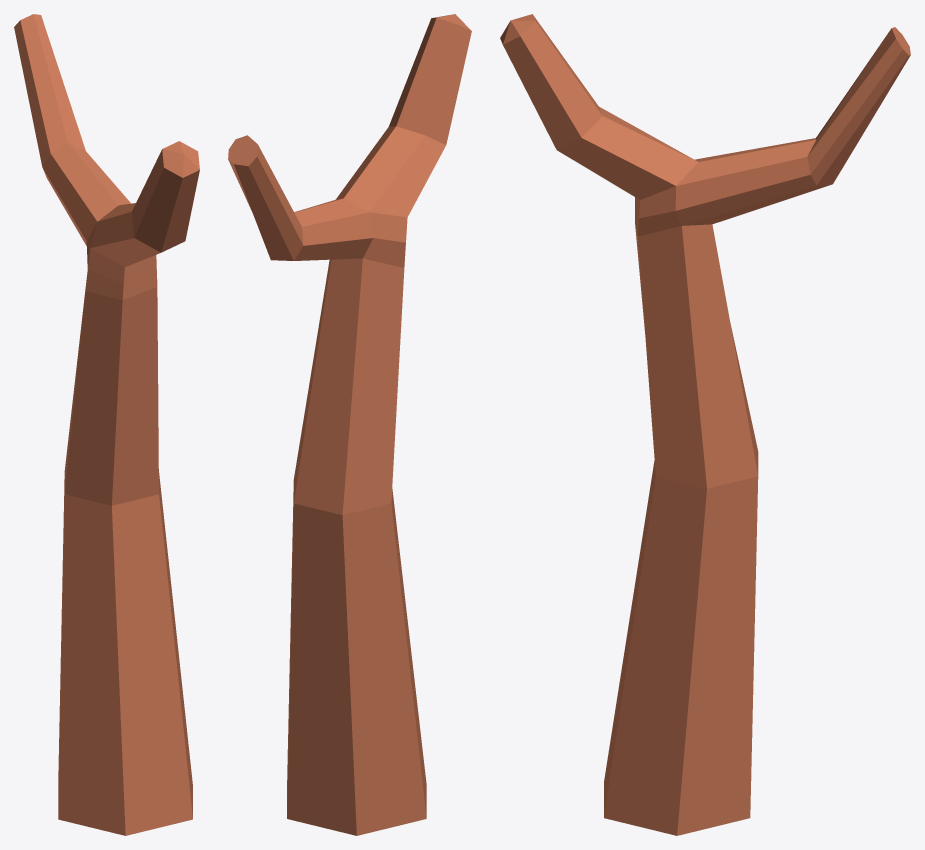
Rendered from Tree_07_spring_mat.fbx.
3 views of the same model, side by side, from view 1: azimuth 30°, elevation 25°; view 2: azimuth 150°, elevation 25°; view 3: azimuth 270°, elevation 25° (orthographic). The views are drawn at different scales.
Parts seen in each view (by area): view 1: Tree_07_spring_mat; view 2: Tree_07_spring_mat; view 3: Tree_07_spring_mat.
Part boxes in pixels (x1,y1,x2,y2): Tree_07_spring_mat: [14, 14, 199, 835]; Tree_07_spring_mat: [228, 14, 471, 835]; Tree_07_spring_mat: [500, 14, 910, 835].
Bounding box in the file's own units: 33.42 × 169 × 81.22.
